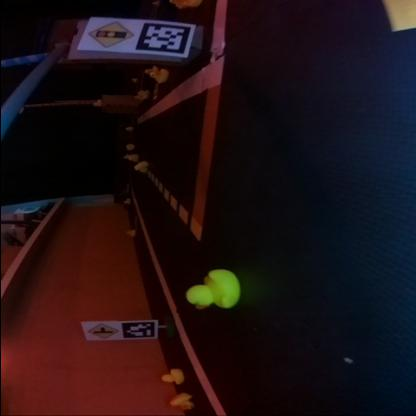Duckie: (185, 271, 235, 306), (169, 394, 191, 409), (160, 370, 182, 382), (150, 68, 166, 82), (134, 162, 146, 172)
Intersection sign: (82, 321, 116, 339)
QR code: (139, 21, 189, 55), (119, 320, 156, 338)
